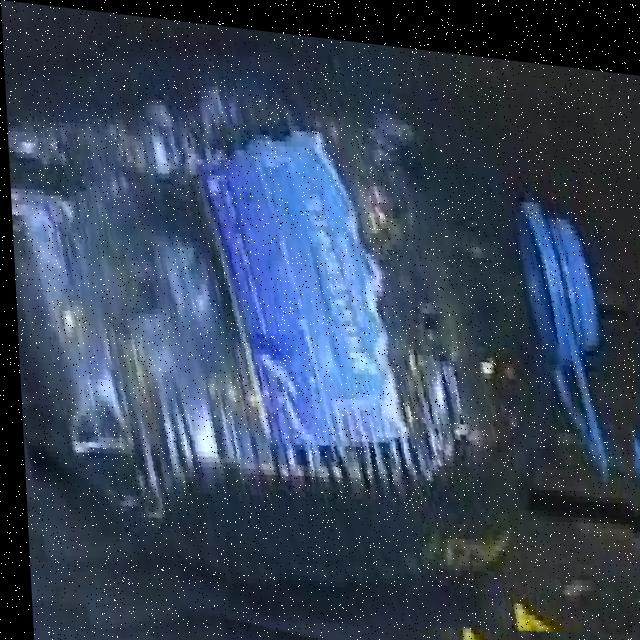plasticbottle: (0, 0, 640, 640)
plasticbottlecap: (521, 201, 640, 539)
